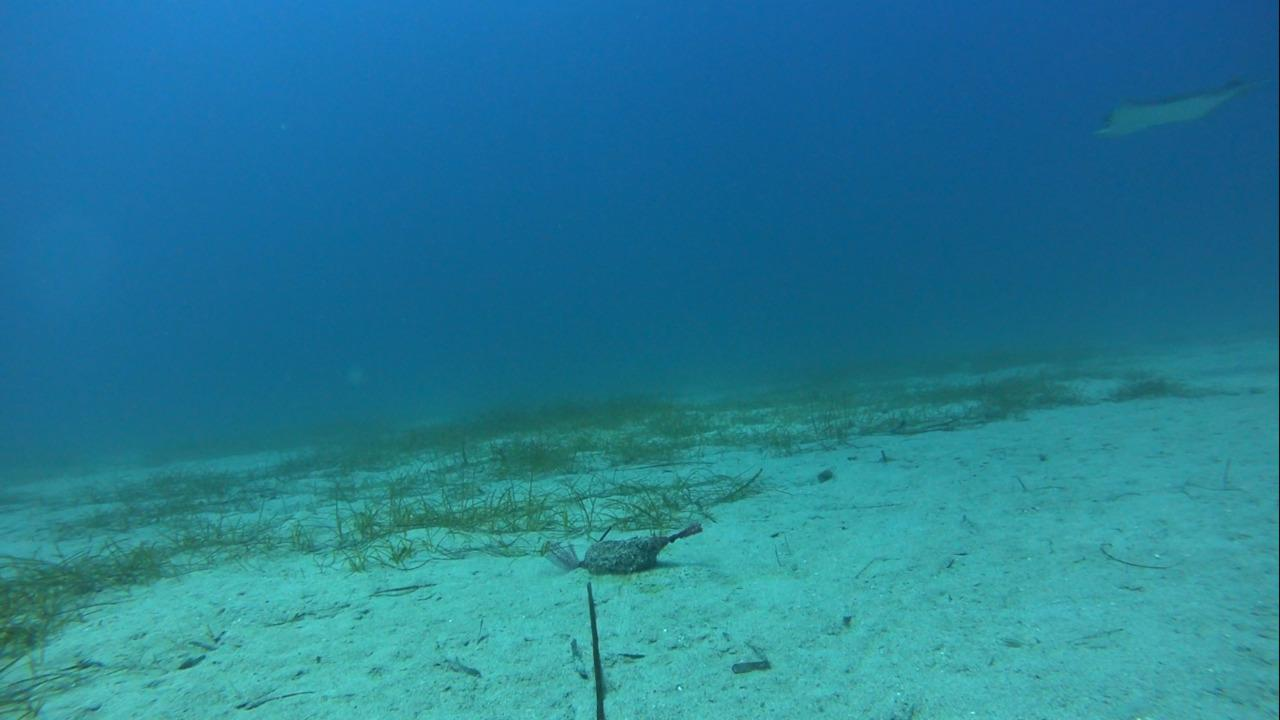myliobatis: (1082, 70, 1279, 138)
